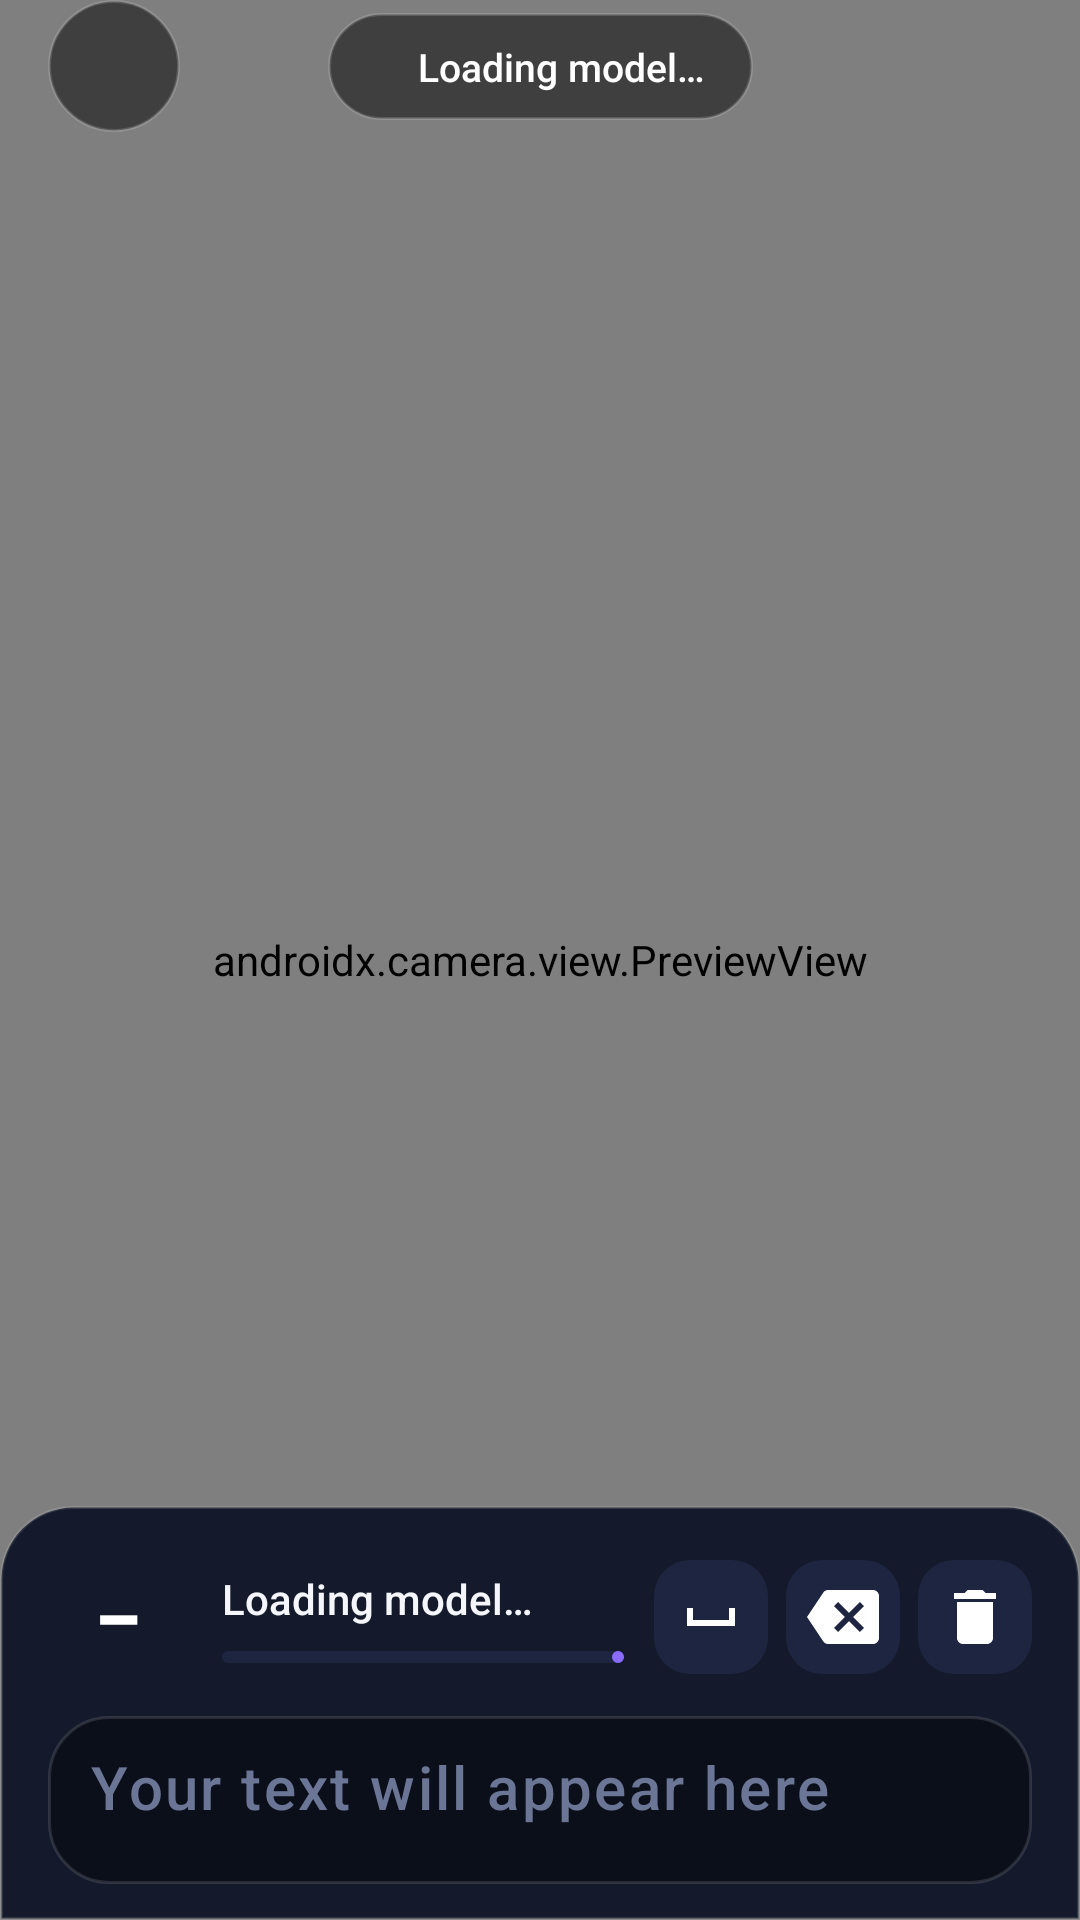

Locate icon controls on the screen. Image size 1080px×1920px, boxes as (left=x1, top=y1, right=x2, bottom=y2).
Clear all: (left=954, top=1590, right=996, bottom=1644)
Delete last letter: (left=807, top=1590, right=879, bottom=1644)
Space: (left=687, top=1608, right=735, bottom=1626)
